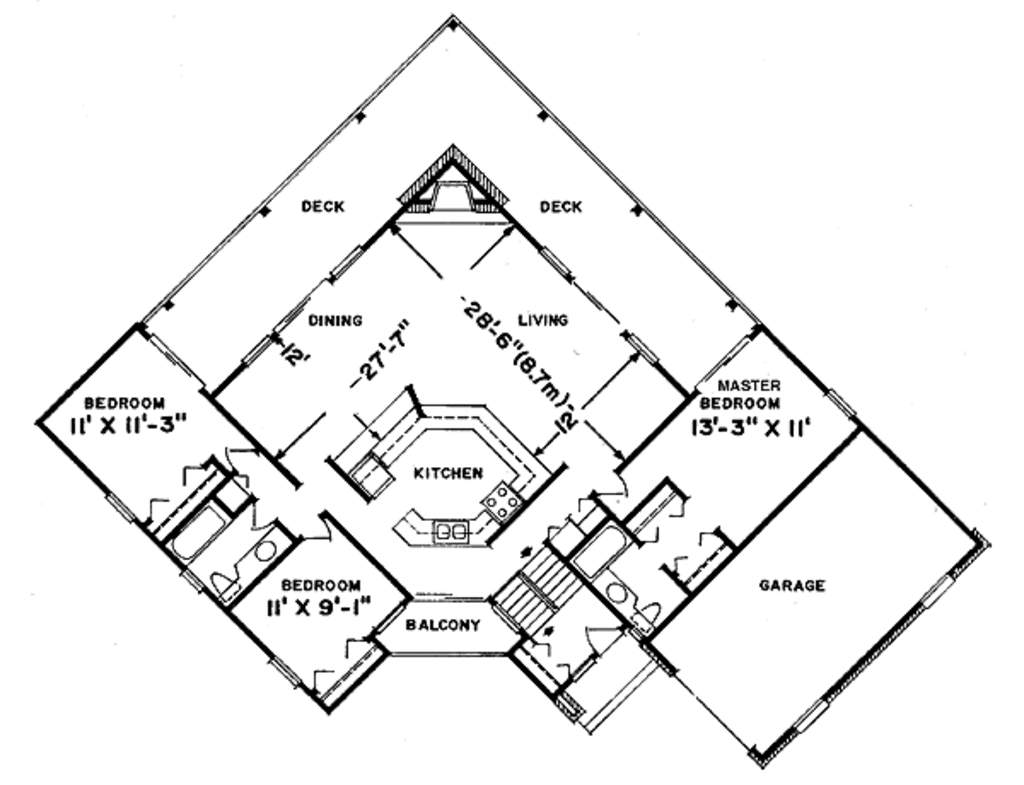door: (216, 431, 277, 470), (294, 515, 337, 551), (240, 499, 280, 525)
large_sink: (201, 565, 254, 612), (627, 581, 663, 637)
small_sink: (235, 531, 298, 567), (600, 570, 635, 610)
stairs: (479, 541, 583, 634)
tub: (154, 490, 229, 562), (563, 519, 628, 576)
twin_sink: (423, 512, 483, 560)
window: (530, 232, 587, 292), (320, 230, 379, 287), (228, 326, 290, 377), (779, 692, 839, 740), (809, 380, 862, 426), (613, 329, 667, 374), (906, 569, 961, 610), (256, 642, 305, 688)
